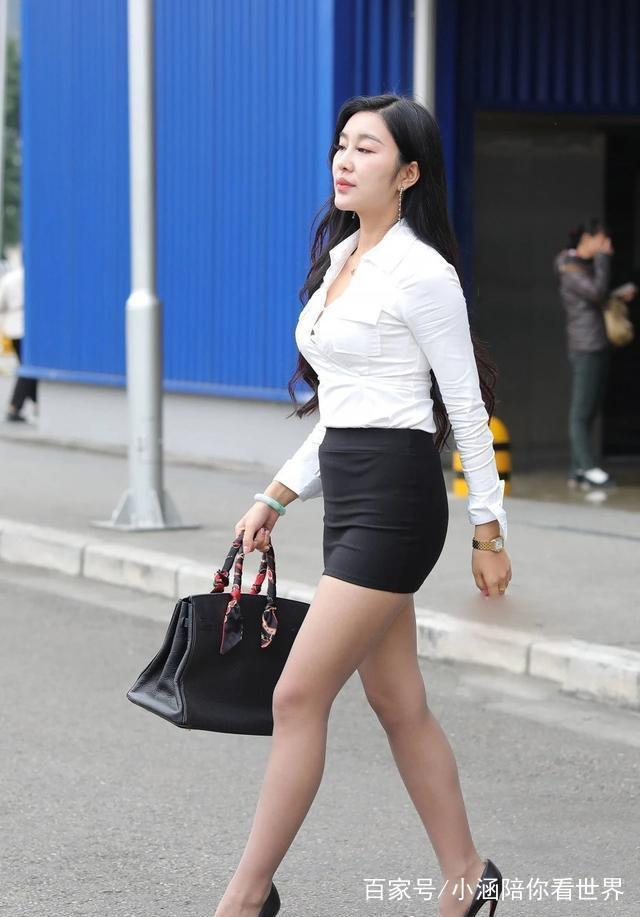person: (278, 57, 532, 707)
